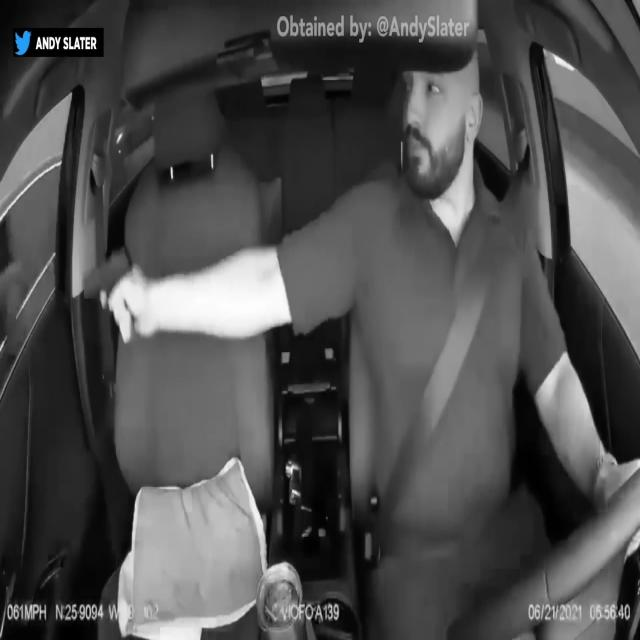senjata_api: (81, 240, 134, 303)
